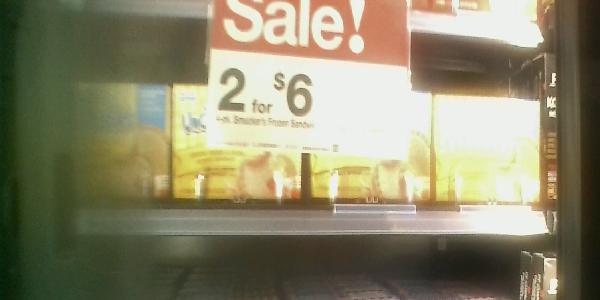icecream: (37, 79, 172, 202), (171, 84, 306, 199), (312, 85, 435, 204), (430, 92, 544, 204)
